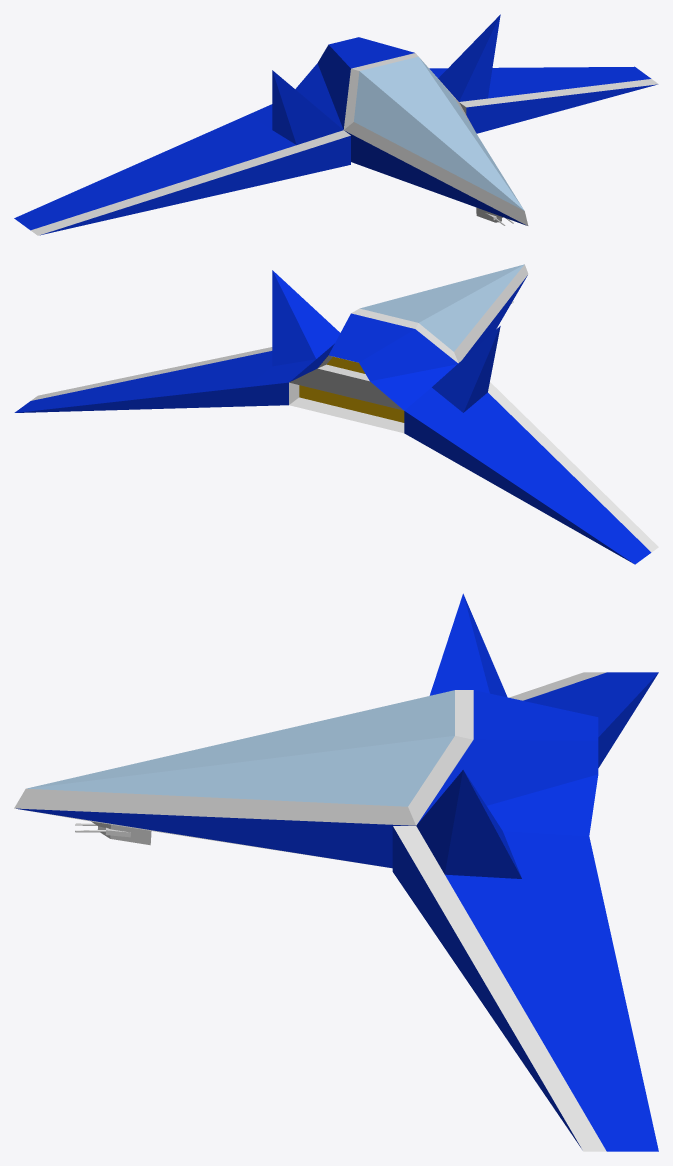
Rendered from spaceship.fbx.
3 views of the same model, one above another, from view 1: azimuth 30°, elevation 25°; view 2: azimuth 150°, elevation 25°; view 3: azimuth 270°, elevation 25° (orthographic). The views are drawn at different scales.
Visible parts, largest first — view 1: plane; view 2: plane; view 3: plane.
Part boxes in pixels (box(x1,y1,x2,y2)): plane: box(14, 14, 658, 235); plane: box(14, 264, 658, 564); plane: box(14, 593, 658, 1151).
Bounding box in the file's own units: 1928 × 433 × 1096.
